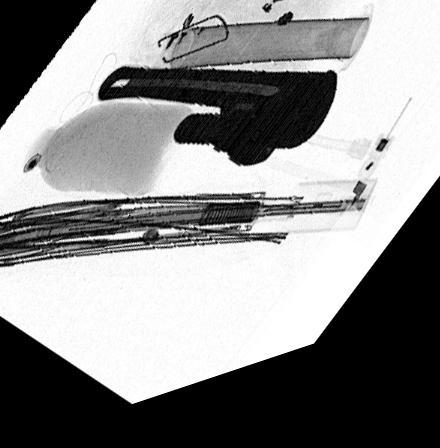Wrench: (95, 72, 339, 182)
